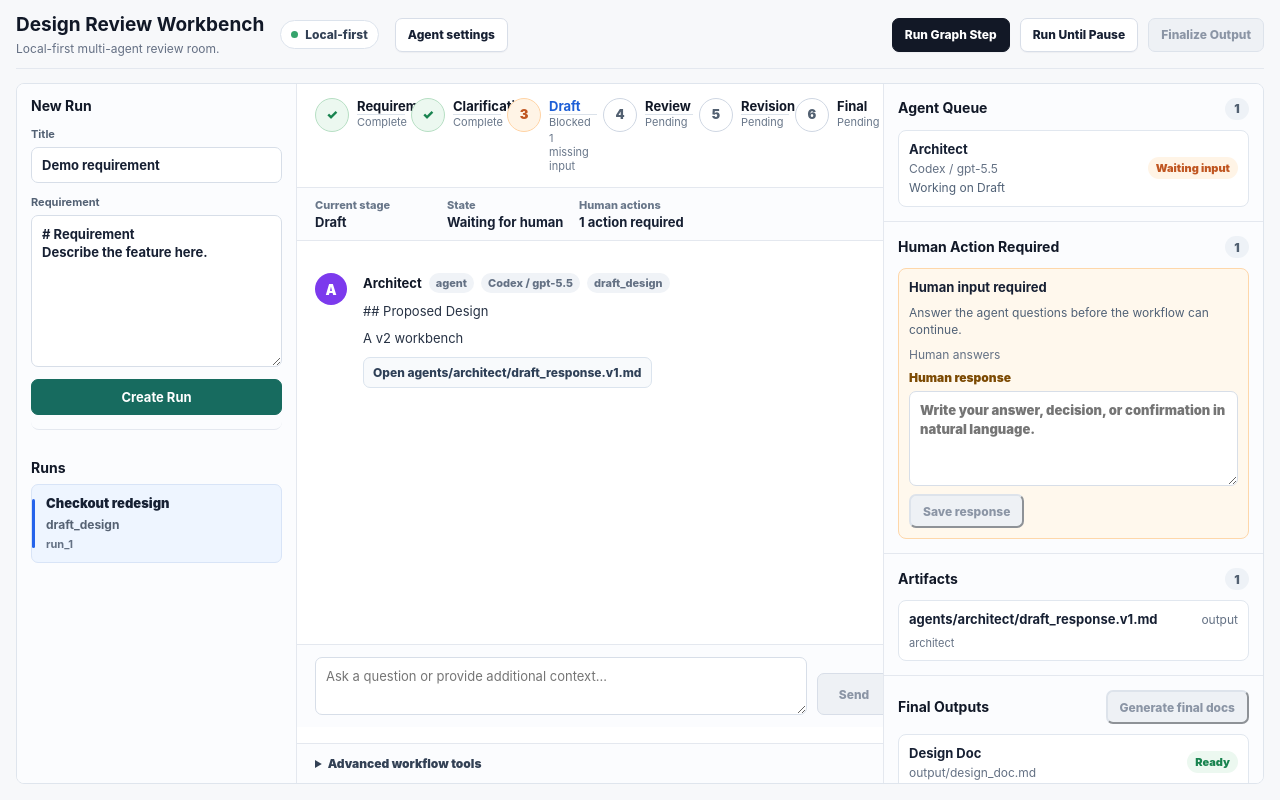
Test case: RunListPage › shows a readable error when saving human answers fails
The image size is (1280, 800).
Replace the text in the text box labelled "Human response" with "Use Codex and Claude Code from the Web UI.": (1074, 438) [909,391,1238,486]
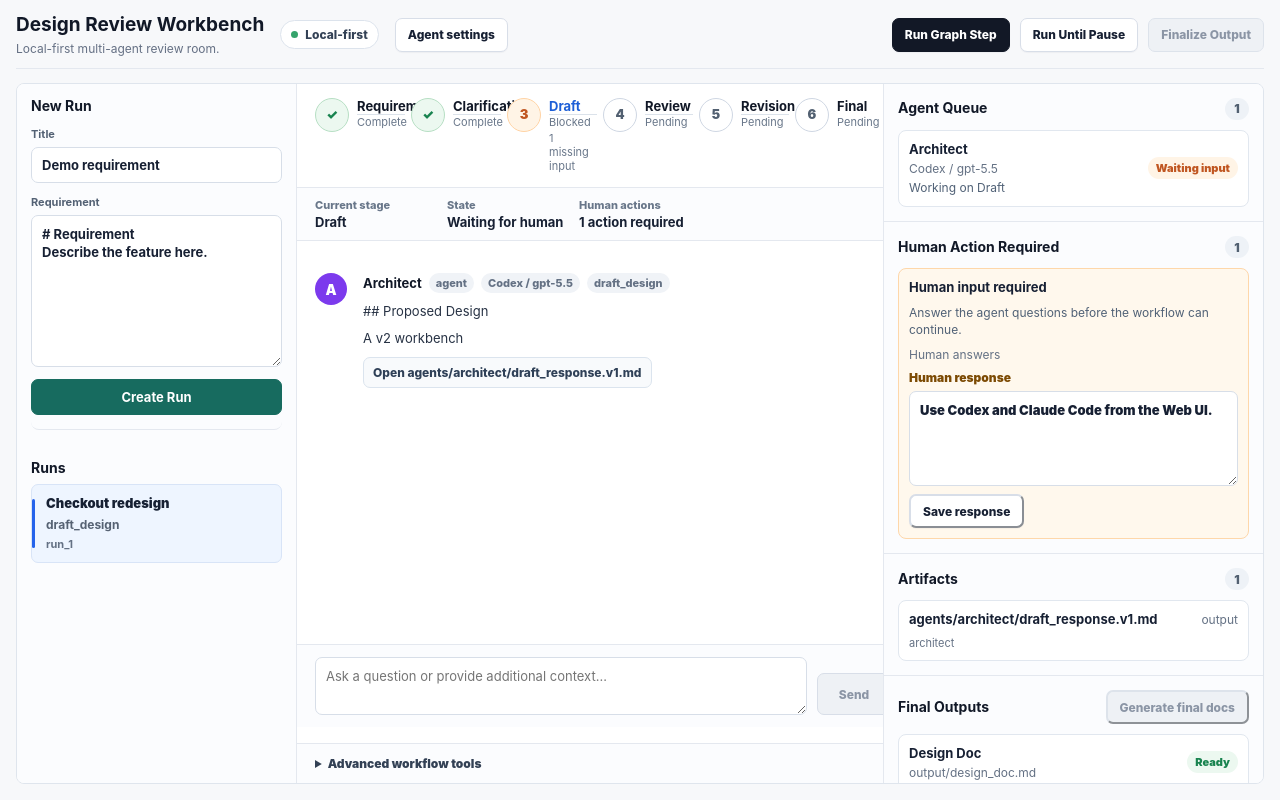
Click the button "Save response": (967, 511) [909,494,1024,528]
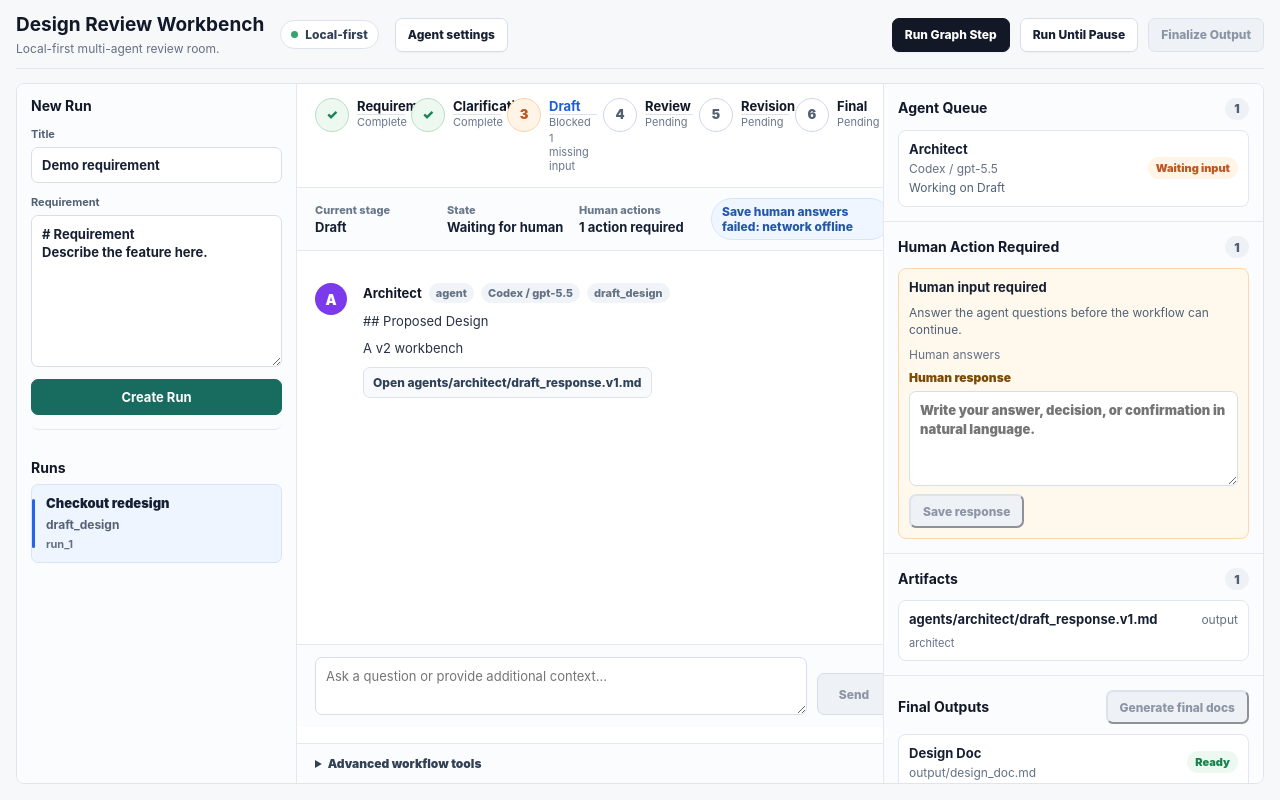
Now the text "Save human answers failed: network offline" is shown, box [711,198,883,240]
